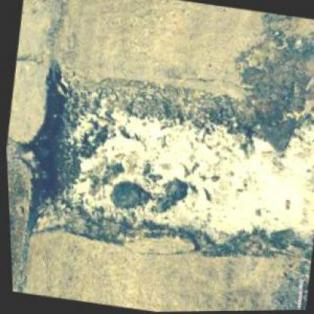Hueco: (2, 45, 314, 282)
